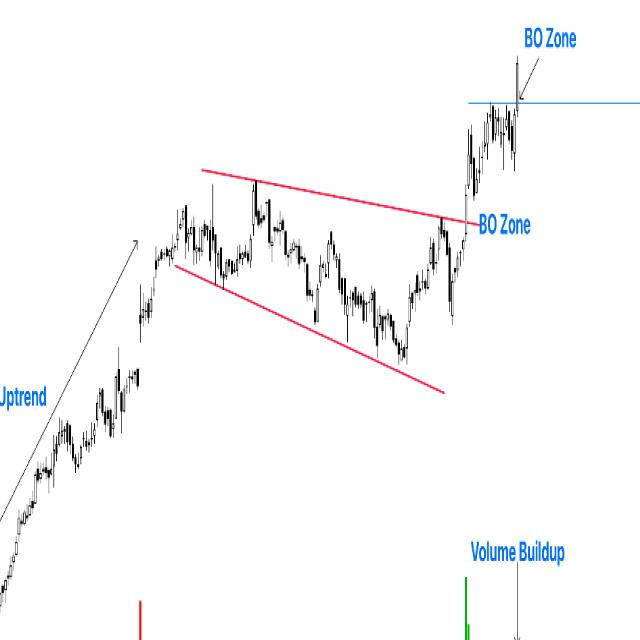Channel-down: (154, 167, 485, 395)
